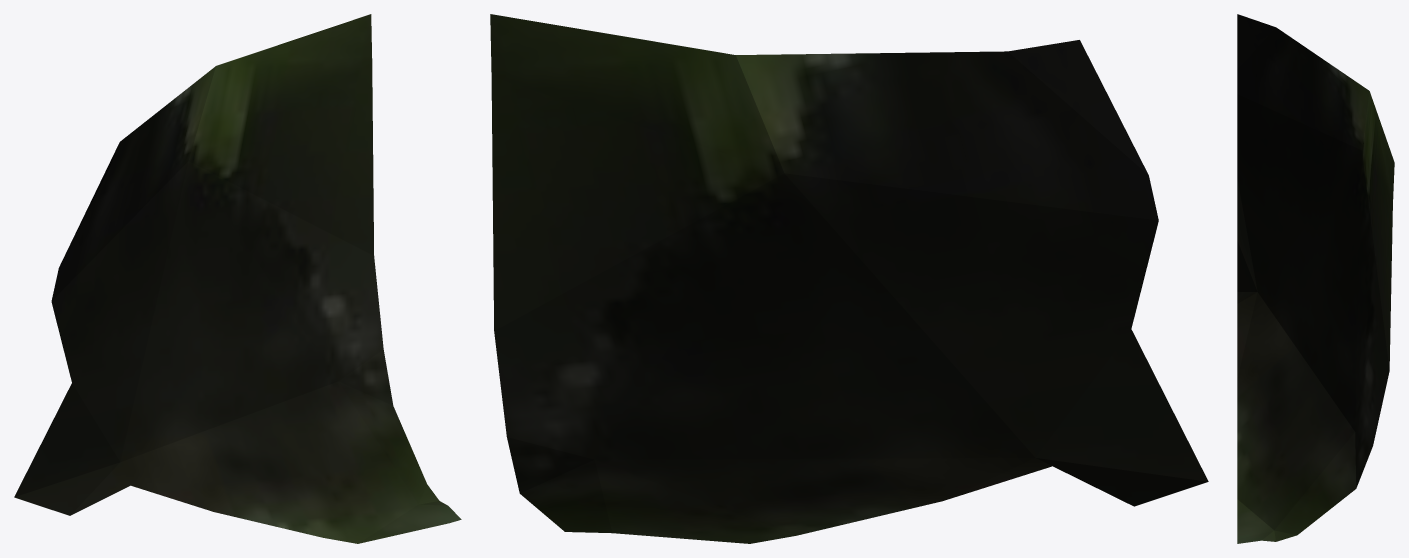
The picture shows the model from 3 angles, left to right: view 1: azimuth 30°, elevation 25°; view 2: azimuth 150°, elevation 25°; view 3: azimuth 270°, elevation 25°; orthographic projection. The views are drawn at different scales.
Size of the model in its own units: 0.2802 by 0.263 by 0.0983.
Materials: 1 (1 with a texture image).
